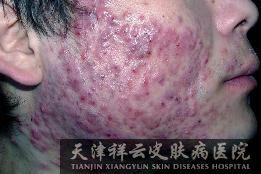fore: (67, 73, 84, 91), (75, 47, 92, 61), (77, 122, 97, 132), (153, 97, 167, 111), (56, 44, 69, 59), (115, 93, 132, 104), (40, 138, 53, 152), (181, 72, 195, 85), (93, 48, 108, 60), (83, 86, 96, 99), (174, 107, 187, 120), (72, 89, 84, 103), (71, 25, 82, 40), (155, 38, 166, 53), (99, 29, 112, 41), (94, 6, 106, 19), (146, 127, 161, 137), (164, 114, 177, 125), (141, 117, 158, 125), (139, 45, 150, 57), (200, 72, 211, 84), (167, 26, 179, 37), (65, 61, 78, 71), (105, 15, 116, 26), (131, 63, 142, 74), (189, 105, 199, 117), (29, 138, 39, 150), (109, 59, 118, 72), (133, 107, 146, 116), (120, 23, 131, 33), (130, 39, 141, 49), (174, 96, 185, 106), (197, 54, 207, 65), (99, 101, 108, 113), (35, 103, 44, 115), (30, 128, 42, 137), (85, 17, 94, 29), (149, 70, 162, 78), (183, 127, 193, 137), (136, 78, 145, 89), (30, 116, 41, 125), (84, 110, 93, 121), (169, 61, 180, 70), (140, 31, 149, 42), (188, 88, 196, 100), (88, 97, 97, 107), (173, 41, 182, 51), (58, 114, 68, 123), (188, 38, 199, 46), (68, 108, 79, 116), (101, 113, 108, 125), (100, 41, 110, 49), (165, 91, 174, 99), (127, 104, 133, 114), (184, 28, 191, 36), (50, 110, 57, 118), (151, 26, 158, 32), (137, 16, 144, 22)
